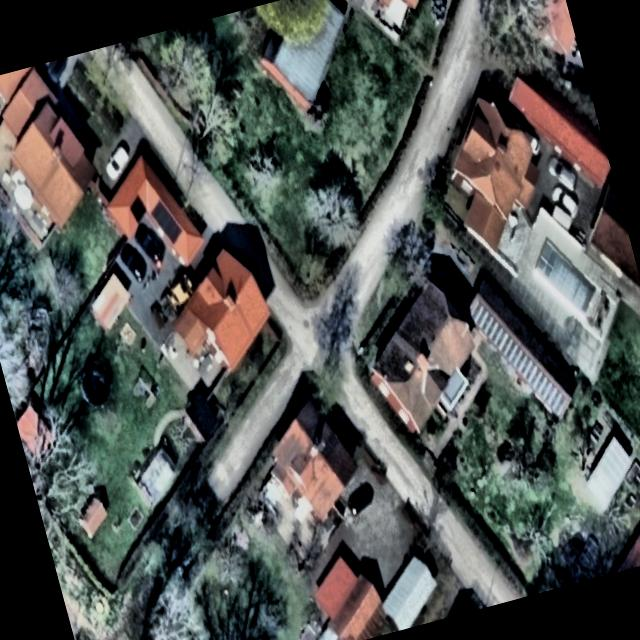roof_pv: (466, 296, 514, 371), (506, 326, 547, 408), (536, 361, 572, 424), (146, 196, 187, 250), (125, 190, 154, 226)
